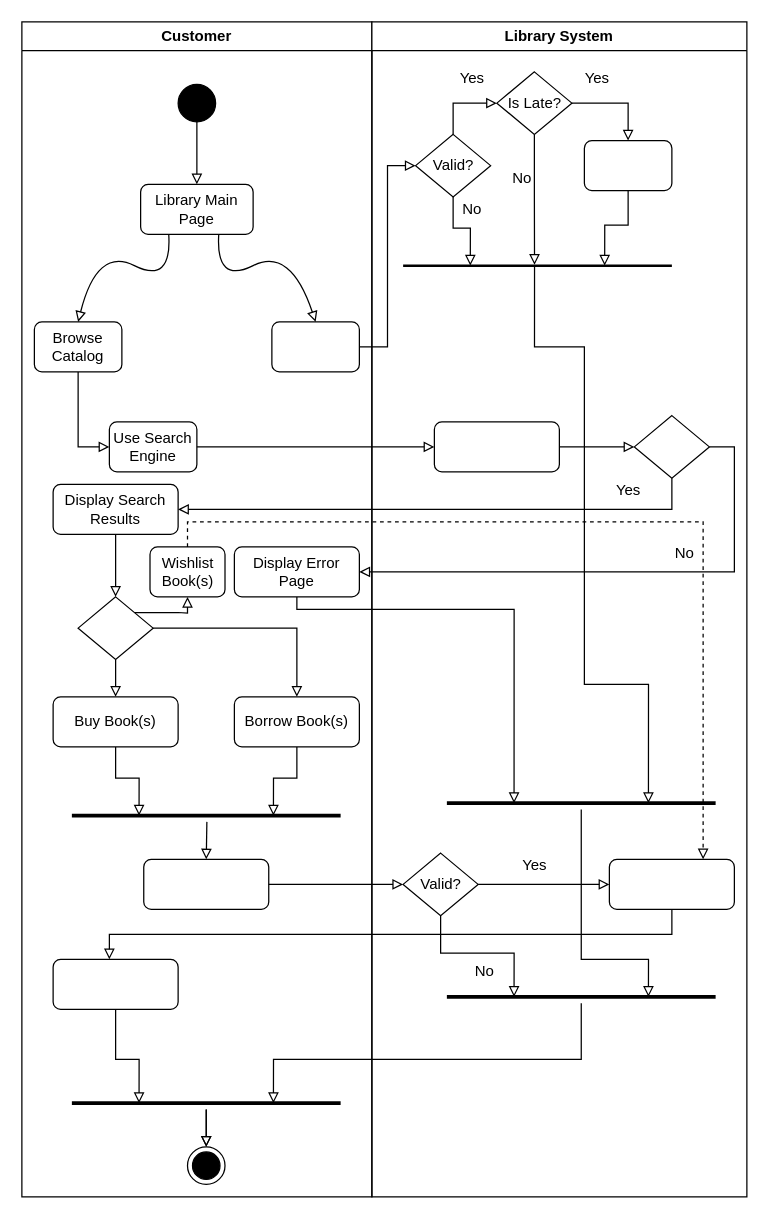
Some shapes in this 769 by 1219 pixel diagram are drawn without their labels. The shapes that lost their labels are listed below. From the top down, each one's centre as x and y in pixels, then its label:
[627,165]: Apply Penalty/Fine
[315,346]: Return Book(s)
[496,446]: Search for Book(s) in Book Database
[671,446]: Found?
[205,883]: Payment Process
[671,883]: Update Master Server
[115,983]: Deliver Book
